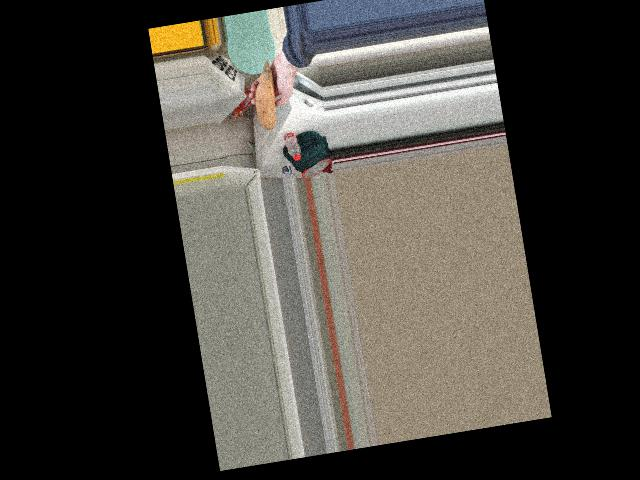sweet_potato: (248, 69, 280, 130)
